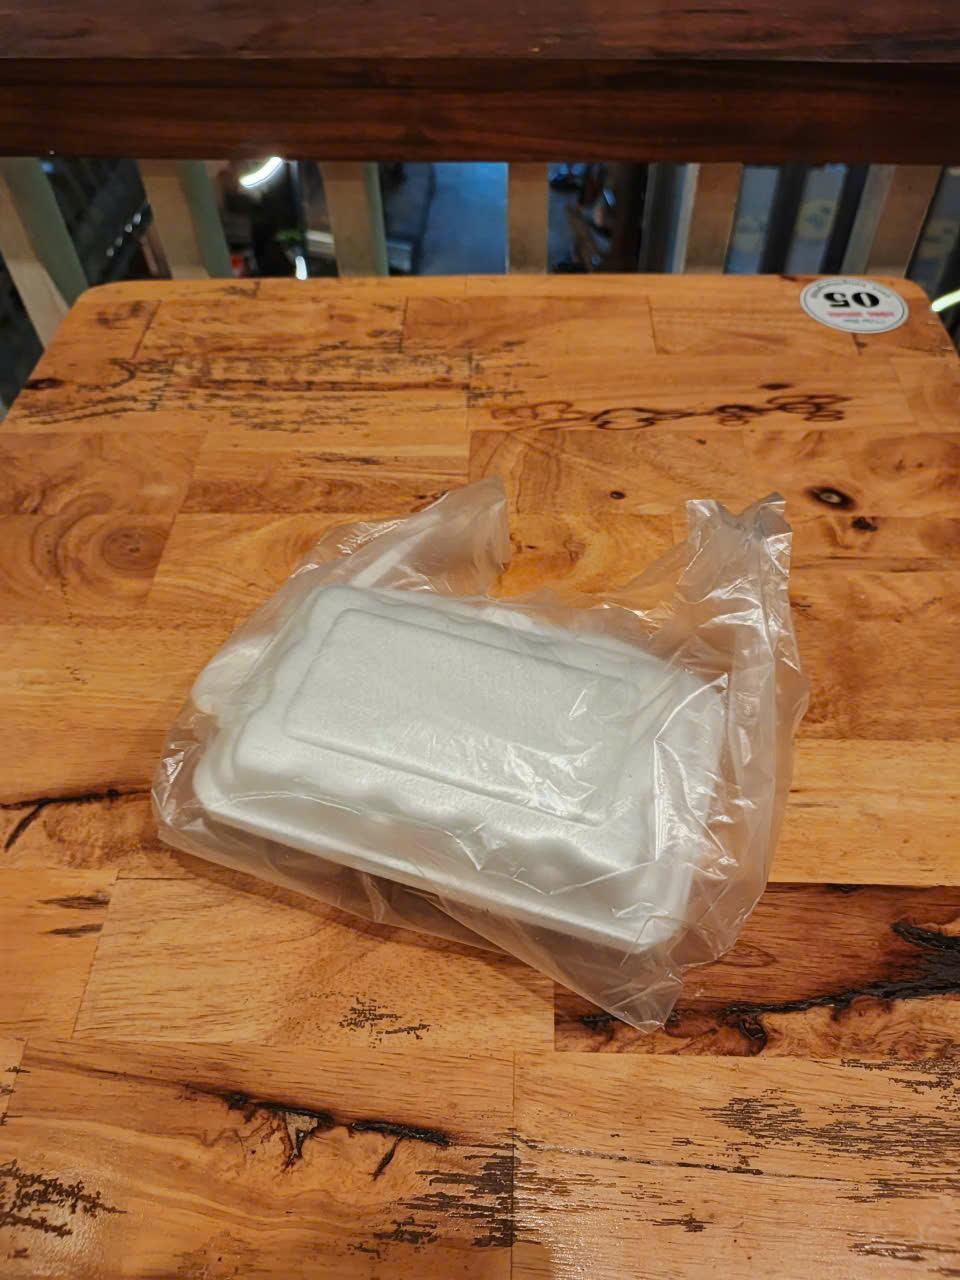Con lai: (148, 481, 812, 1025)
